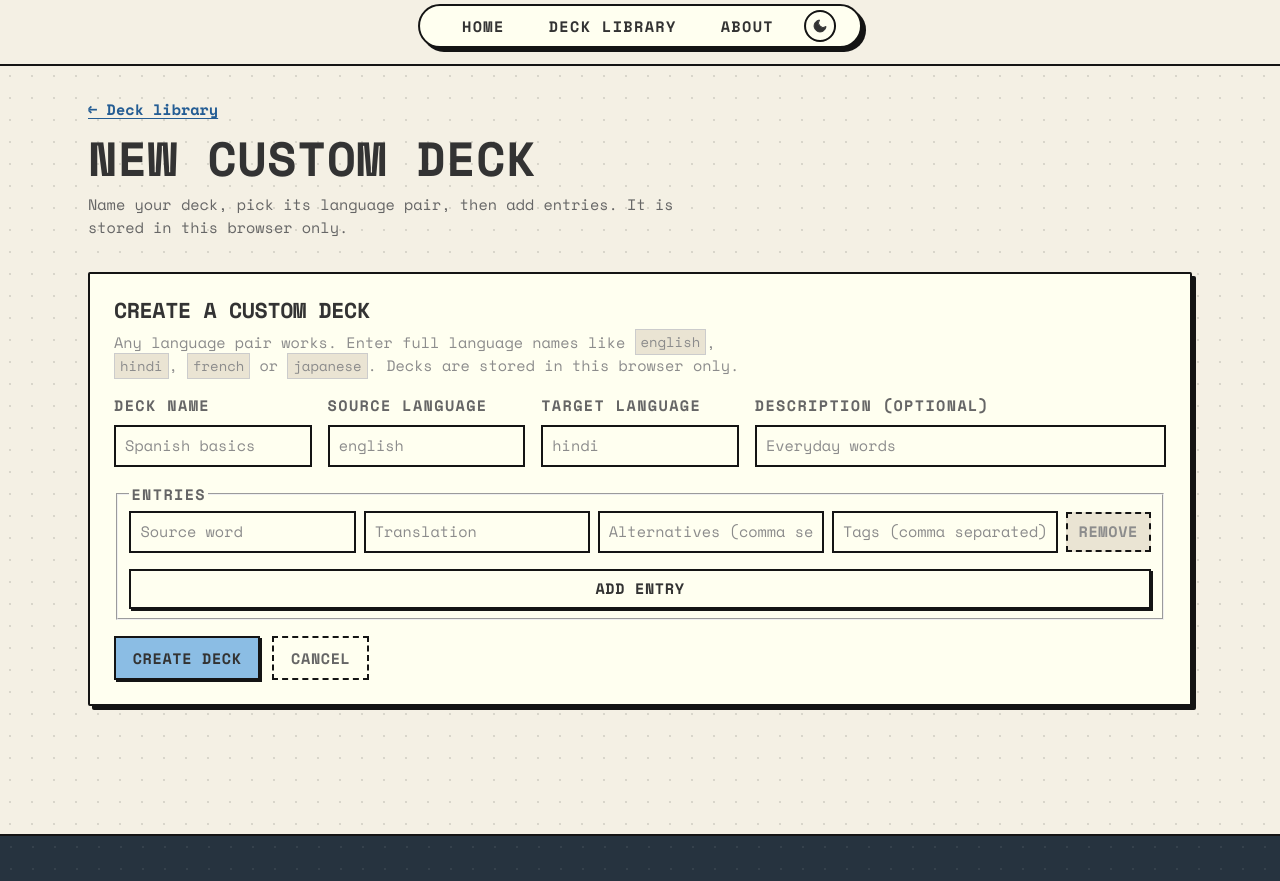
Test: custom deck creation and editing › rejects an incomplete deck with actionable errors
Click the button "Create deck" at (187, 658), box [114, 636, 260, 680]
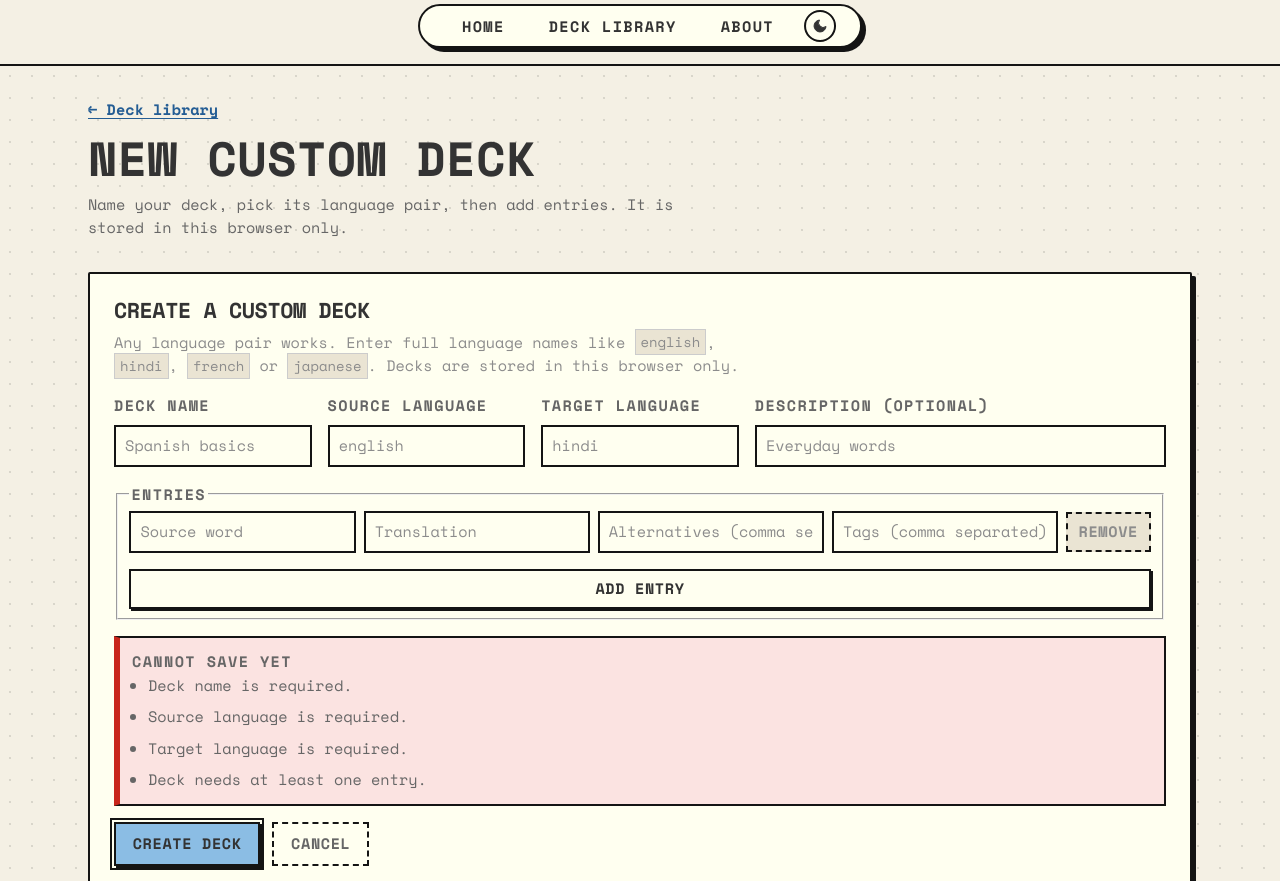
Now the message shows "Deck name is required", box [148, 674, 352, 696]
Now the message shows "Source language is required", box [148, 705, 408, 727]
Now the message shows "target language is required", box [148, 737, 408, 759]
